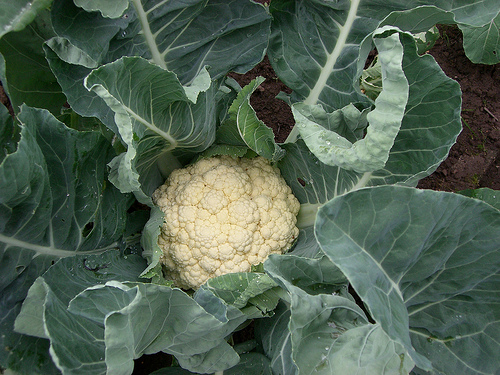cauliflower: (150, 153, 298, 291)
